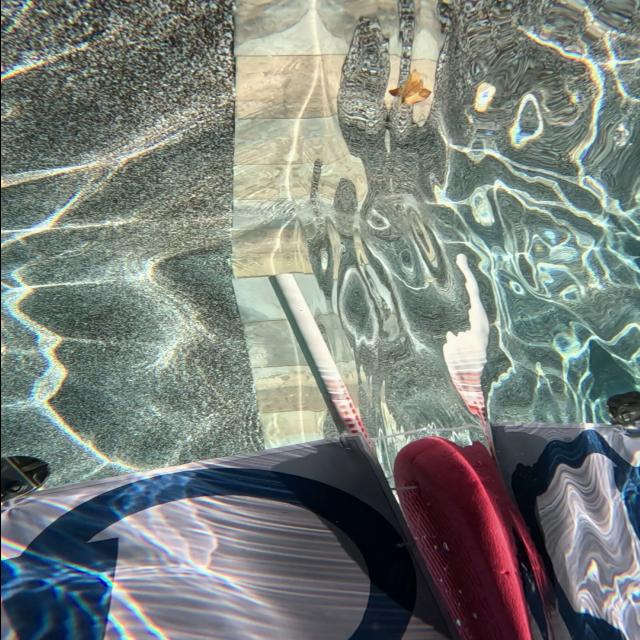blue_side: (0, 468, 404, 640)
